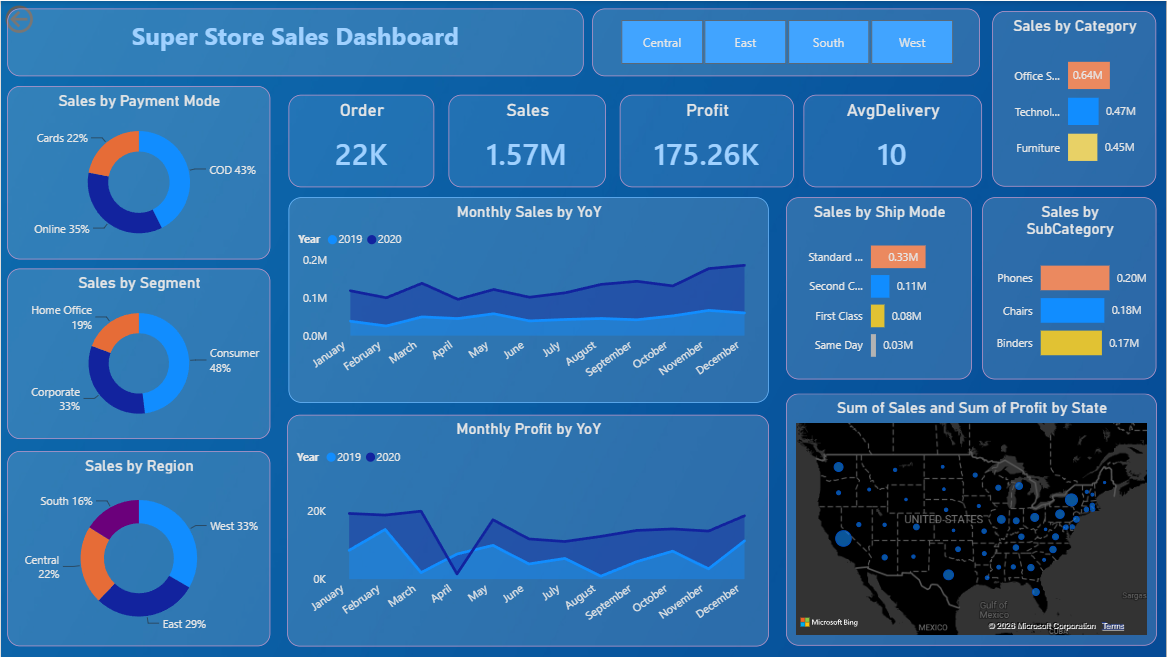

The dashboard page shown, as its layout file describes it:
{"tool":"powerbi","page":{"name":"Page 1","canvas":[1280,720],"ordinal":0},"visuals":[{"type":"barChart","title":"Sales by Category","fields":{"Category":["SuperStore_Sales_Dataset.Category"],"Y":["Sum(SuperStore_Sales_Dataset.Sales)"]},"box":[1088.6,11.4,180,192.9],"z":0},{"type":"barChart","title":"Sales by SubCategory","fields":{"Category":["SuperStore_Sales_Dataset.Sub-Category"],"Y":["Sum(SuperStore_Sales_Dataset.Sales)"]},"box":[1077.1,215.7,191.4,200],"z":1000},{"type":"barChart","title":"Sales by Ship Mode","fields":{"Category":["SuperStore_Sales_Dataset.Ship Mode"],"Y":["Sum(SuperStore_Sales_Dataset.Sales)"]},"box":[861.4,215.7,204.3,200],"z":2000},{"type":"stackedAreaChart","title":"Monthly Sales by YoY","fields":{"Y":["Sum(SuperStore_Sales_Dataset.Sales)"],"Category":["SuperStore_Sales_Dataset.Order Date.Variation.Date Hierarchy.Month","SuperStore_Sales_Dataset.Order Date.Variation.Date Hierarchy.Day"],"Series":["SuperStore_Sales_Dataset.Order Date.Variation.Date Hierarchy.Year"]},"box":[315.7,215.7,527.1,225.7],"z":3000},{"type":"actionButton","box":[0,0,100,40],"z":4000},{"type":"stackedAreaChart","title":"Monthly Profit by YoY","fields":{"Category":["SuperStore_Sales_Dataset.Order Date.Variation.Date Hierarchy.Month","SuperStore_Sales_Dataset.Order Date.Variation.Date Hierarchy.Day"],"Series":["SuperStore_Sales_Dataset.Order Date.Variation.Date Hierarchy.Year"],"Y":["Sum(SuperStore_Sales_Dataset.Profit)"]},"box":[314.3,454.3,528.6,254.3],"z":5000},{"type":"map","fields":{"Category":["SuperStore_Sales_Dataset.State"],"Size":["Sum(SuperStore_Sales_Dataset.Sales)"]},"box":[861.4,431.4,407.1,277.1],"z":6000},{"type":"donutChart","title":"Sales by Segment","fields":{"Category":["SuperStore_Sales_Dataset.Segment"],"Y":["Sum(SuperStore_Sales_Dataset.Sales)"]},"box":[7.1,294.3,288.6,187.1],"z":7000},{"type":"donutChart","title":"Sales by Payment Mode","fields":{"Category":["SuperStore_Sales_Dataset.Payment Mode"],"Y":["Sum(SuperStore_Sales_Dataset.Sales)"]},"box":[7.1,92.9,288.6,190],"z":8000},{"type":"slicer","fields":{"Values":["SuperStore_Sales_Dataset.Region"]},"box":[648.6,8.6,425.7,74.3],"z":9000},{"type":"textbox","box":[7.1,8.6,632.9,74.3],"z":10000},{"type":"cardVisual","title":"Sales","fields":{"Data":["Sum(SuperStore_Sales_Dataset.Sales)"]},"box":[491.4,102.9,172.9,101.4],"z":11000},{"type":"cardVisual","title":"Order","fields":{"Data":["Sum(SuperStore_Sales_Dataset.Quantity)"]},"box":[315.7,102.9,160,101.4],"z":12000},{"type":"cardVisual","title":"Profit","fields":{"Data":["Sum(SuperStore_Sales_Dataset.Profit)"]},"box":[678.6,102.9,191.4,101.4],"z":13000},{"type":"cardVisual","title":"AvgDelivery","fields":{"Data":["Salesforecast.Avg Delivery Days"]},"box":[881.4,102.9,195.7,101.4],"z":14000},{"type":"donutChart","title":"Sales by Region","fields":{"Category":["SuperStore_Sales_Dataset.Region"],"Y":["Sum(SuperStore_Sales_Dataset.Sales)"]},"box":[7.1,494.3,288.6,214.3],"z":15000}]}

Visuals, with their boxes in screenshot pixels (x1, y1, x2, y2), scaled from the page's 1280x720 canvas onto the 1167x657 screenshot:
"Sales by Category" barChart: bbox=(992, 10, 1157, 186)
"Sales by SubCategory" barChart: bbox=(982, 197, 1157, 379)
"Sales by Ship Mode" barChart: bbox=(785, 197, 972, 379)
"Monthly Sales by YoY" stackedAreaChart: bbox=(288, 197, 768, 403)
actionButton: bbox=(0, 0, 91, 36)
"Monthly Profit by YoY" stackedAreaChart: bbox=(287, 415, 768, 647)
map - SuperStore_Sales_Dataset.State x Sum(SuperStore_Sales_Dataset.Sales): bbox=(785, 394, 1157, 647)
"Sales by Segment" donutChart: bbox=(6, 269, 270, 439)
"Sales by Payment Mode" donutChart: bbox=(6, 85, 270, 258)
slicer - SuperStore_Sales_Dataset.Region: bbox=(591, 8, 979, 76)
textbox: bbox=(6, 8, 584, 76)
"Sales" cardVisual: bbox=(448, 94, 606, 186)
"Order" cardVisual: bbox=(288, 94, 434, 186)
"Profit" cardVisual: bbox=(619, 94, 793, 186)
"AvgDelivery" cardVisual: bbox=(804, 94, 982, 186)
"Sales by Region" donutChart: bbox=(6, 451, 270, 647)
